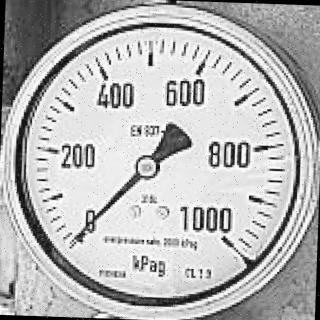gauge: (0, 0, 320, 320), (192, 205, 250, 267), (61, 206, 100, 256), (132, 153, 160, 181), (65, 233, 80, 251)
